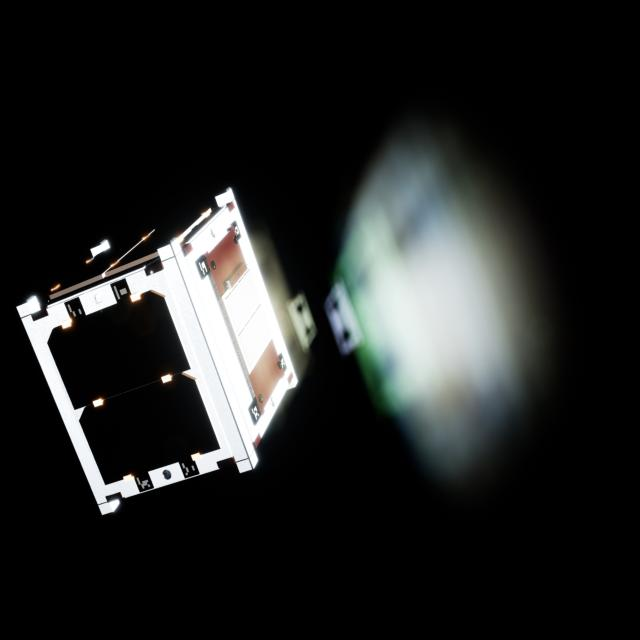medium_debris: (13, 175, 322, 542)
